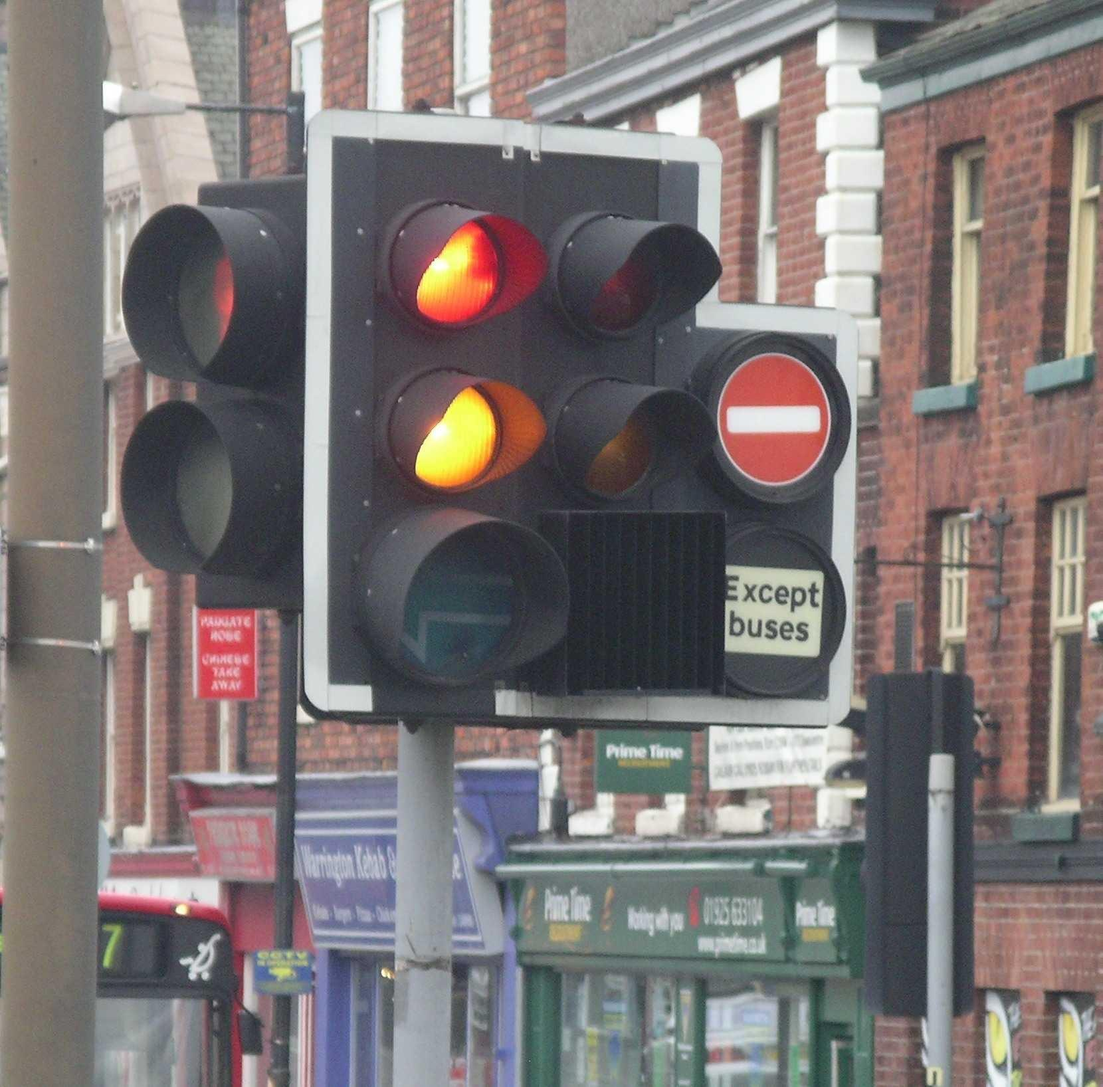red: (391, 164, 550, 354)
